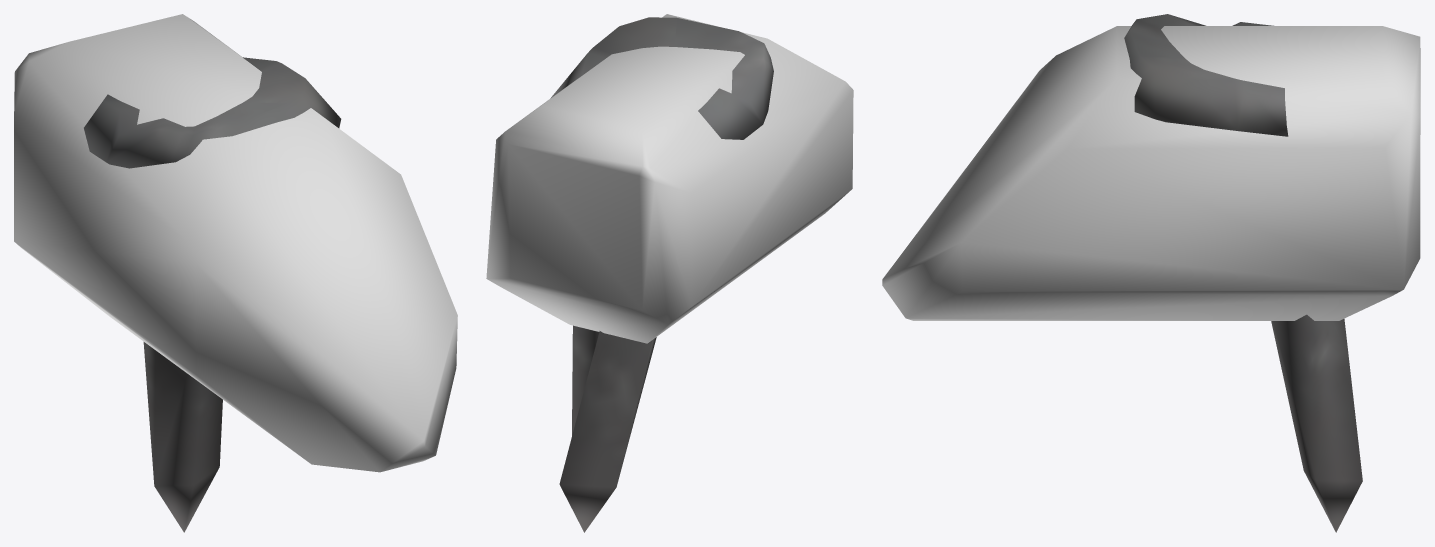
File: SM_Nail_B_v2_.fbx
3 renders of one model, left to right at view 1: azimuth 30°, elevation 25°; view 2: azimuth 150°, elevation 25°; view 3: azimuth 270°, elevation 25°, orthographic. The views are drawn at different scales.
Visible parts, largest first — view 1: SM_Nail_B_v2__ConvexHulls, SM_Nail_B_v2_; view 2: SM_Nail_B_v2__ConvexHulls, SM_Nail_B_v2_; view 3: SM_Nail_B_v2__ConvexHulls, SM_Nail_B_v2_.
Part boxes in pixels (x1,y1,x2,y2): SM_Nail_B_v2__ConvexHulls: [14, 14, 457, 472]; SM_Nail_B_v2_: [84, 57, 341, 532]; SM_Nail_B_v2__ConvexHulls: [486, 14, 853, 343]; SM_Nail_B_v2_: [550, 17, 773, 532]; SM_Nail_B_v2__ConvexHulls: [882, 26, 1420, 320]; SM_Nail_B_v2_: [1124, 14, 1362, 532].
Size of the model in its own units: 0.0387 by 0.0848 by 0.0869.
